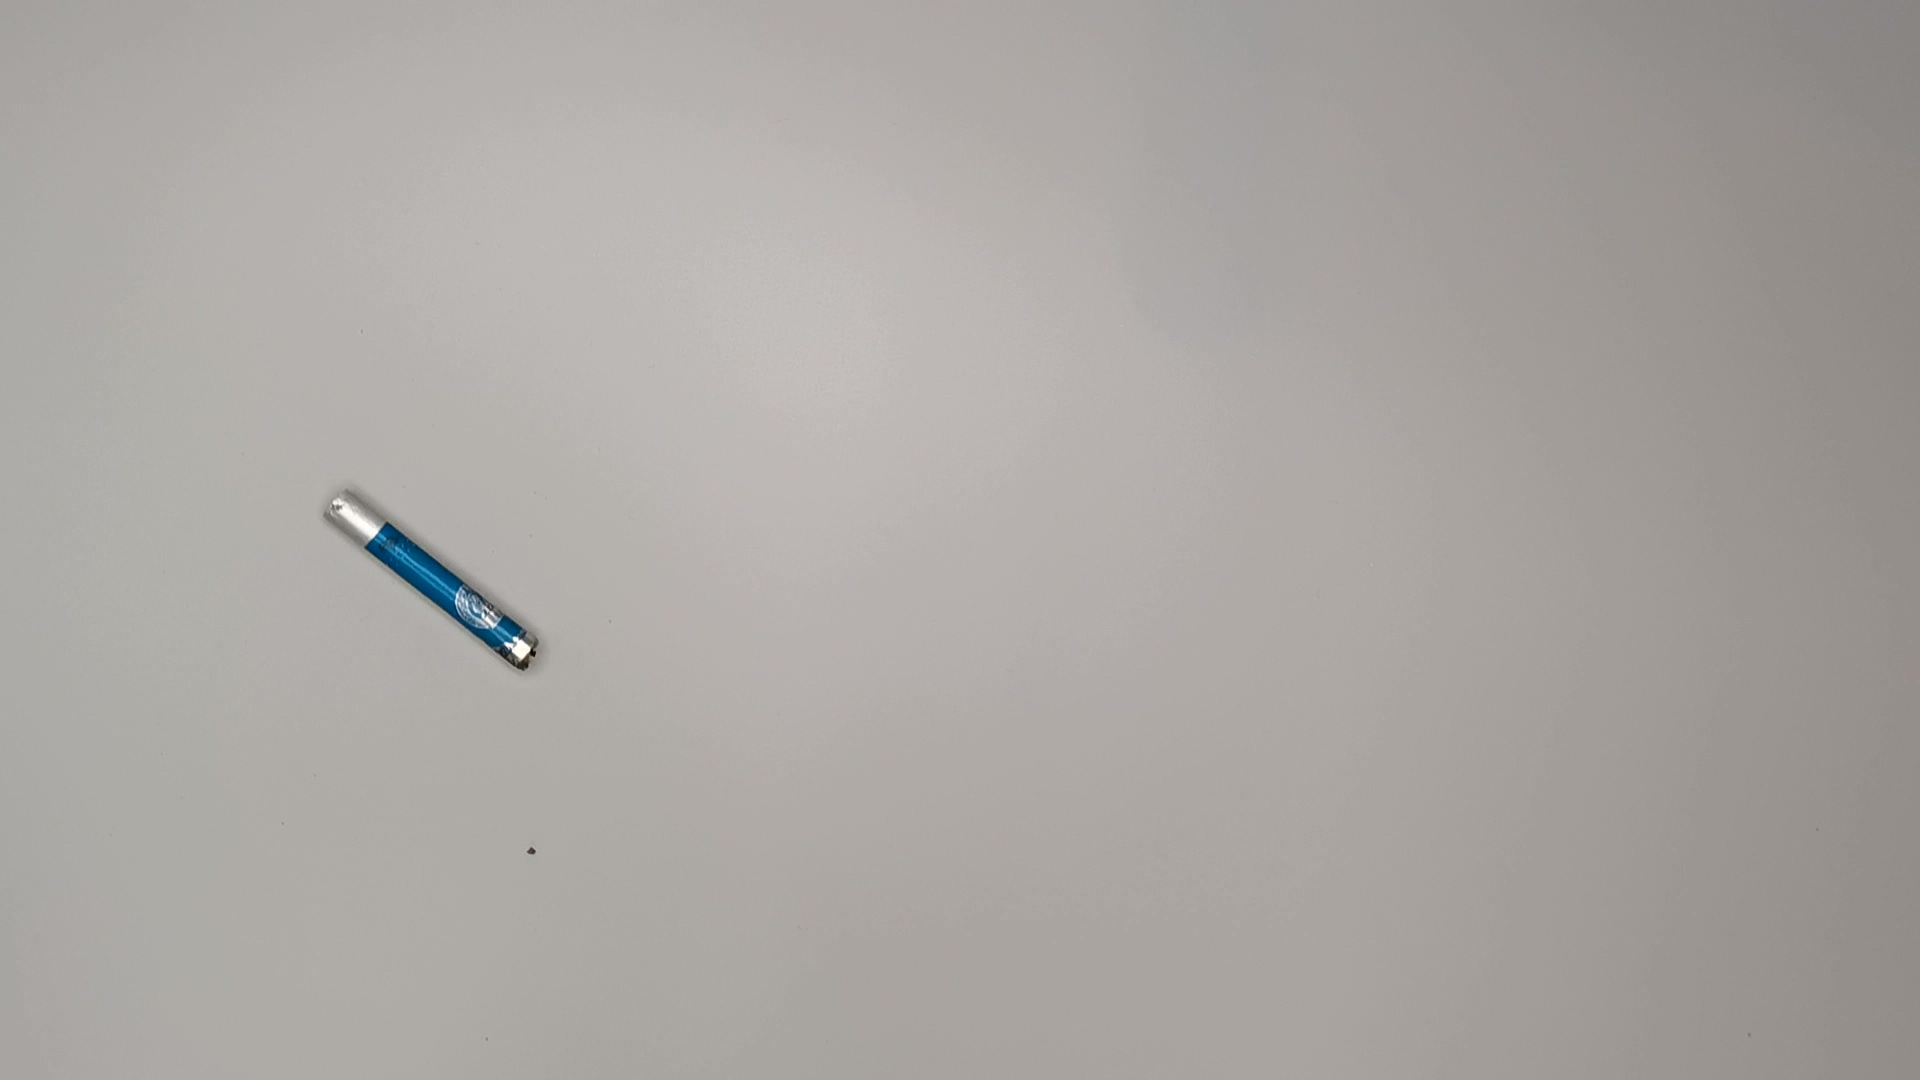cigarette: (320, 487, 558, 675)
